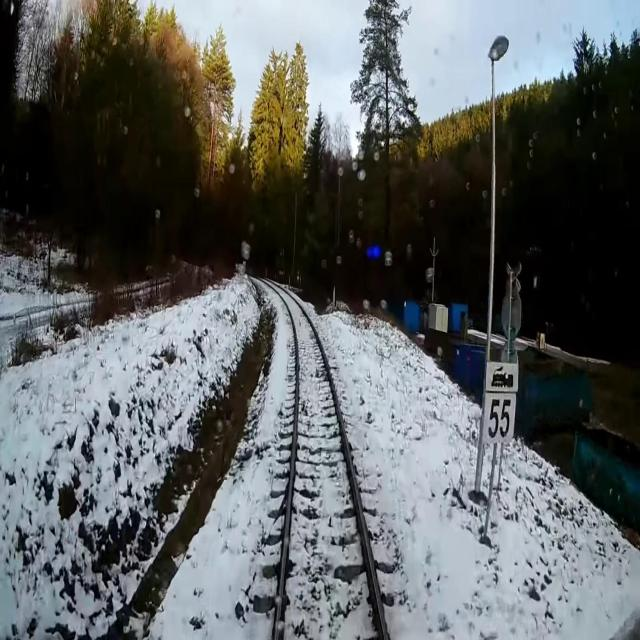rail-track: (267, 281, 383, 639)
